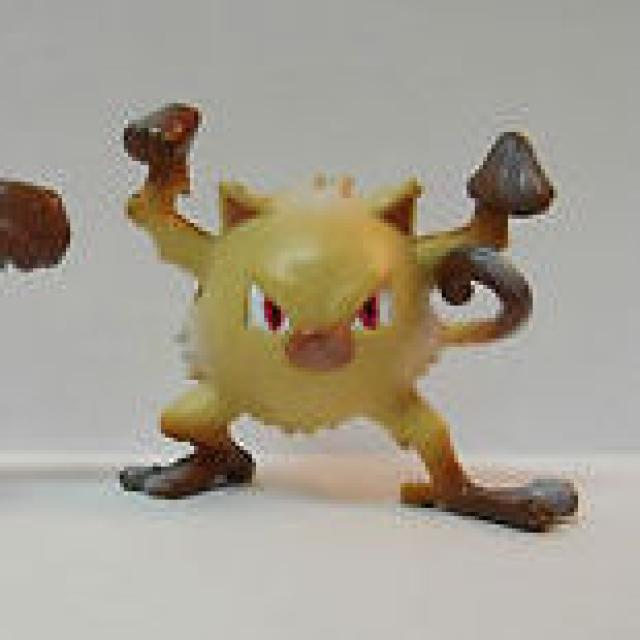Mankey: (122, 108, 557, 528)
